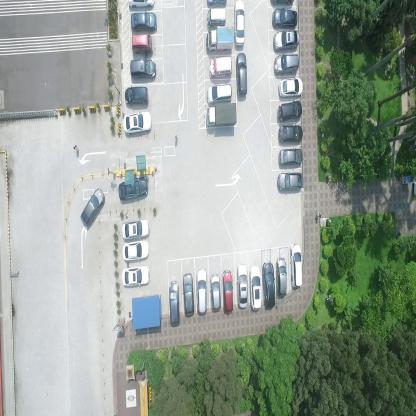car: (80, 187, 105, 228), (206, 102, 238, 128), (122, 109, 152, 136), (118, 175, 148, 201), (205, 25, 233, 51), (122, 217, 150, 242), (121, 264, 150, 288), (262, 260, 276, 309), (249, 264, 263, 310), (121, 240, 150, 262), (290, 240, 303, 289), (195, 267, 208, 315), (272, 28, 300, 50), (277, 170, 303, 193), (236, 261, 248, 309), (276, 99, 301, 122), (130, 58, 156, 80), (206, 82, 232, 104), (131, 11, 157, 33), (222, 268, 234, 314), (235, 50, 247, 96), (233, 0, 245, 46), (168, 280, 180, 326), (274, 52, 299, 74), (278, 75, 303, 97), (208, 56, 233, 78), (182, 272, 194, 317), (279, 144, 303, 166), (124, 85, 148, 107), (276, 256, 288, 300), (271, 7, 298, 26), (278, 123, 304, 142), (210, 272, 222, 312), (131, 31, 152, 53), (205, 5, 226, 24), (128, 0, 155, 8)
